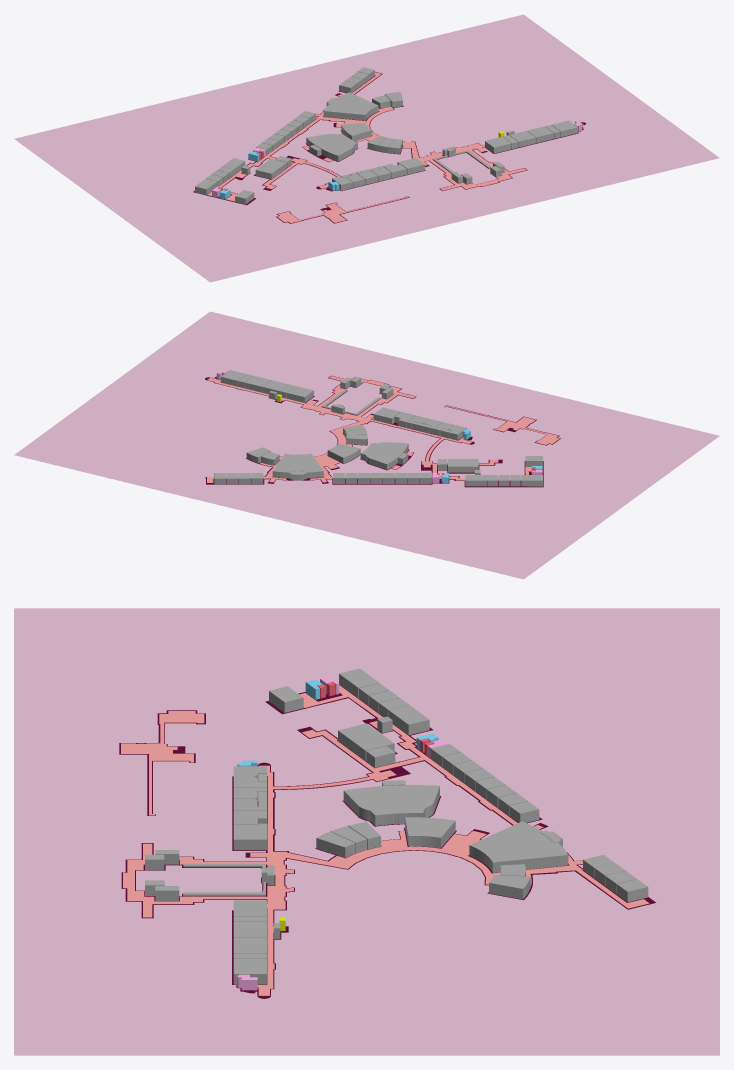
File: njc-l3-v2-31-3.glb
3 views of the same model, one above another, from view 1: azimuth 30°, elevation 25°; view 2: azimuth 150°, elevation 25°; view 3: azimuth 270°, elevation 25° (orthographic). The views are drawn at different scales.
Visible parts, largest first — view 1: Grey, None, Foot, Base; view 2: Grey, None, Foot, Base; view 3: Grey, None, Foot, Base, None | 30.
Part boxes in pixels (x1=…): Grey: x1=14, y1=14, x2=719, y2=282; None: x1=195, y1=67, x2=577, y2=204; Foot: x1=207, y1=72, x2=583, y2=223; Base: x1=193, y1=72, x2=585, y2=223; Grey: x1=14, y1=311, x2=719, y2=579; None: x1=214, y1=370, x2=542, y2=486; Foot: x1=207, y1=376, x2=559, y2=482; Base: x1=205, y1=375, x2=560, y2=487; Grey: x1=14, y1=608, x2=719, y2=1055; None: x1=145, y1=668, x2=648, y2=984; Foot: x1=121, y1=685, x2=649, y2=995; Base: x1=119, y1=685, x2=655, y2=998; None | 30: x1=183, y1=863, x2=265, y2=896.
Bounding box in the file's own units: 18 × 0.4 × 12.
